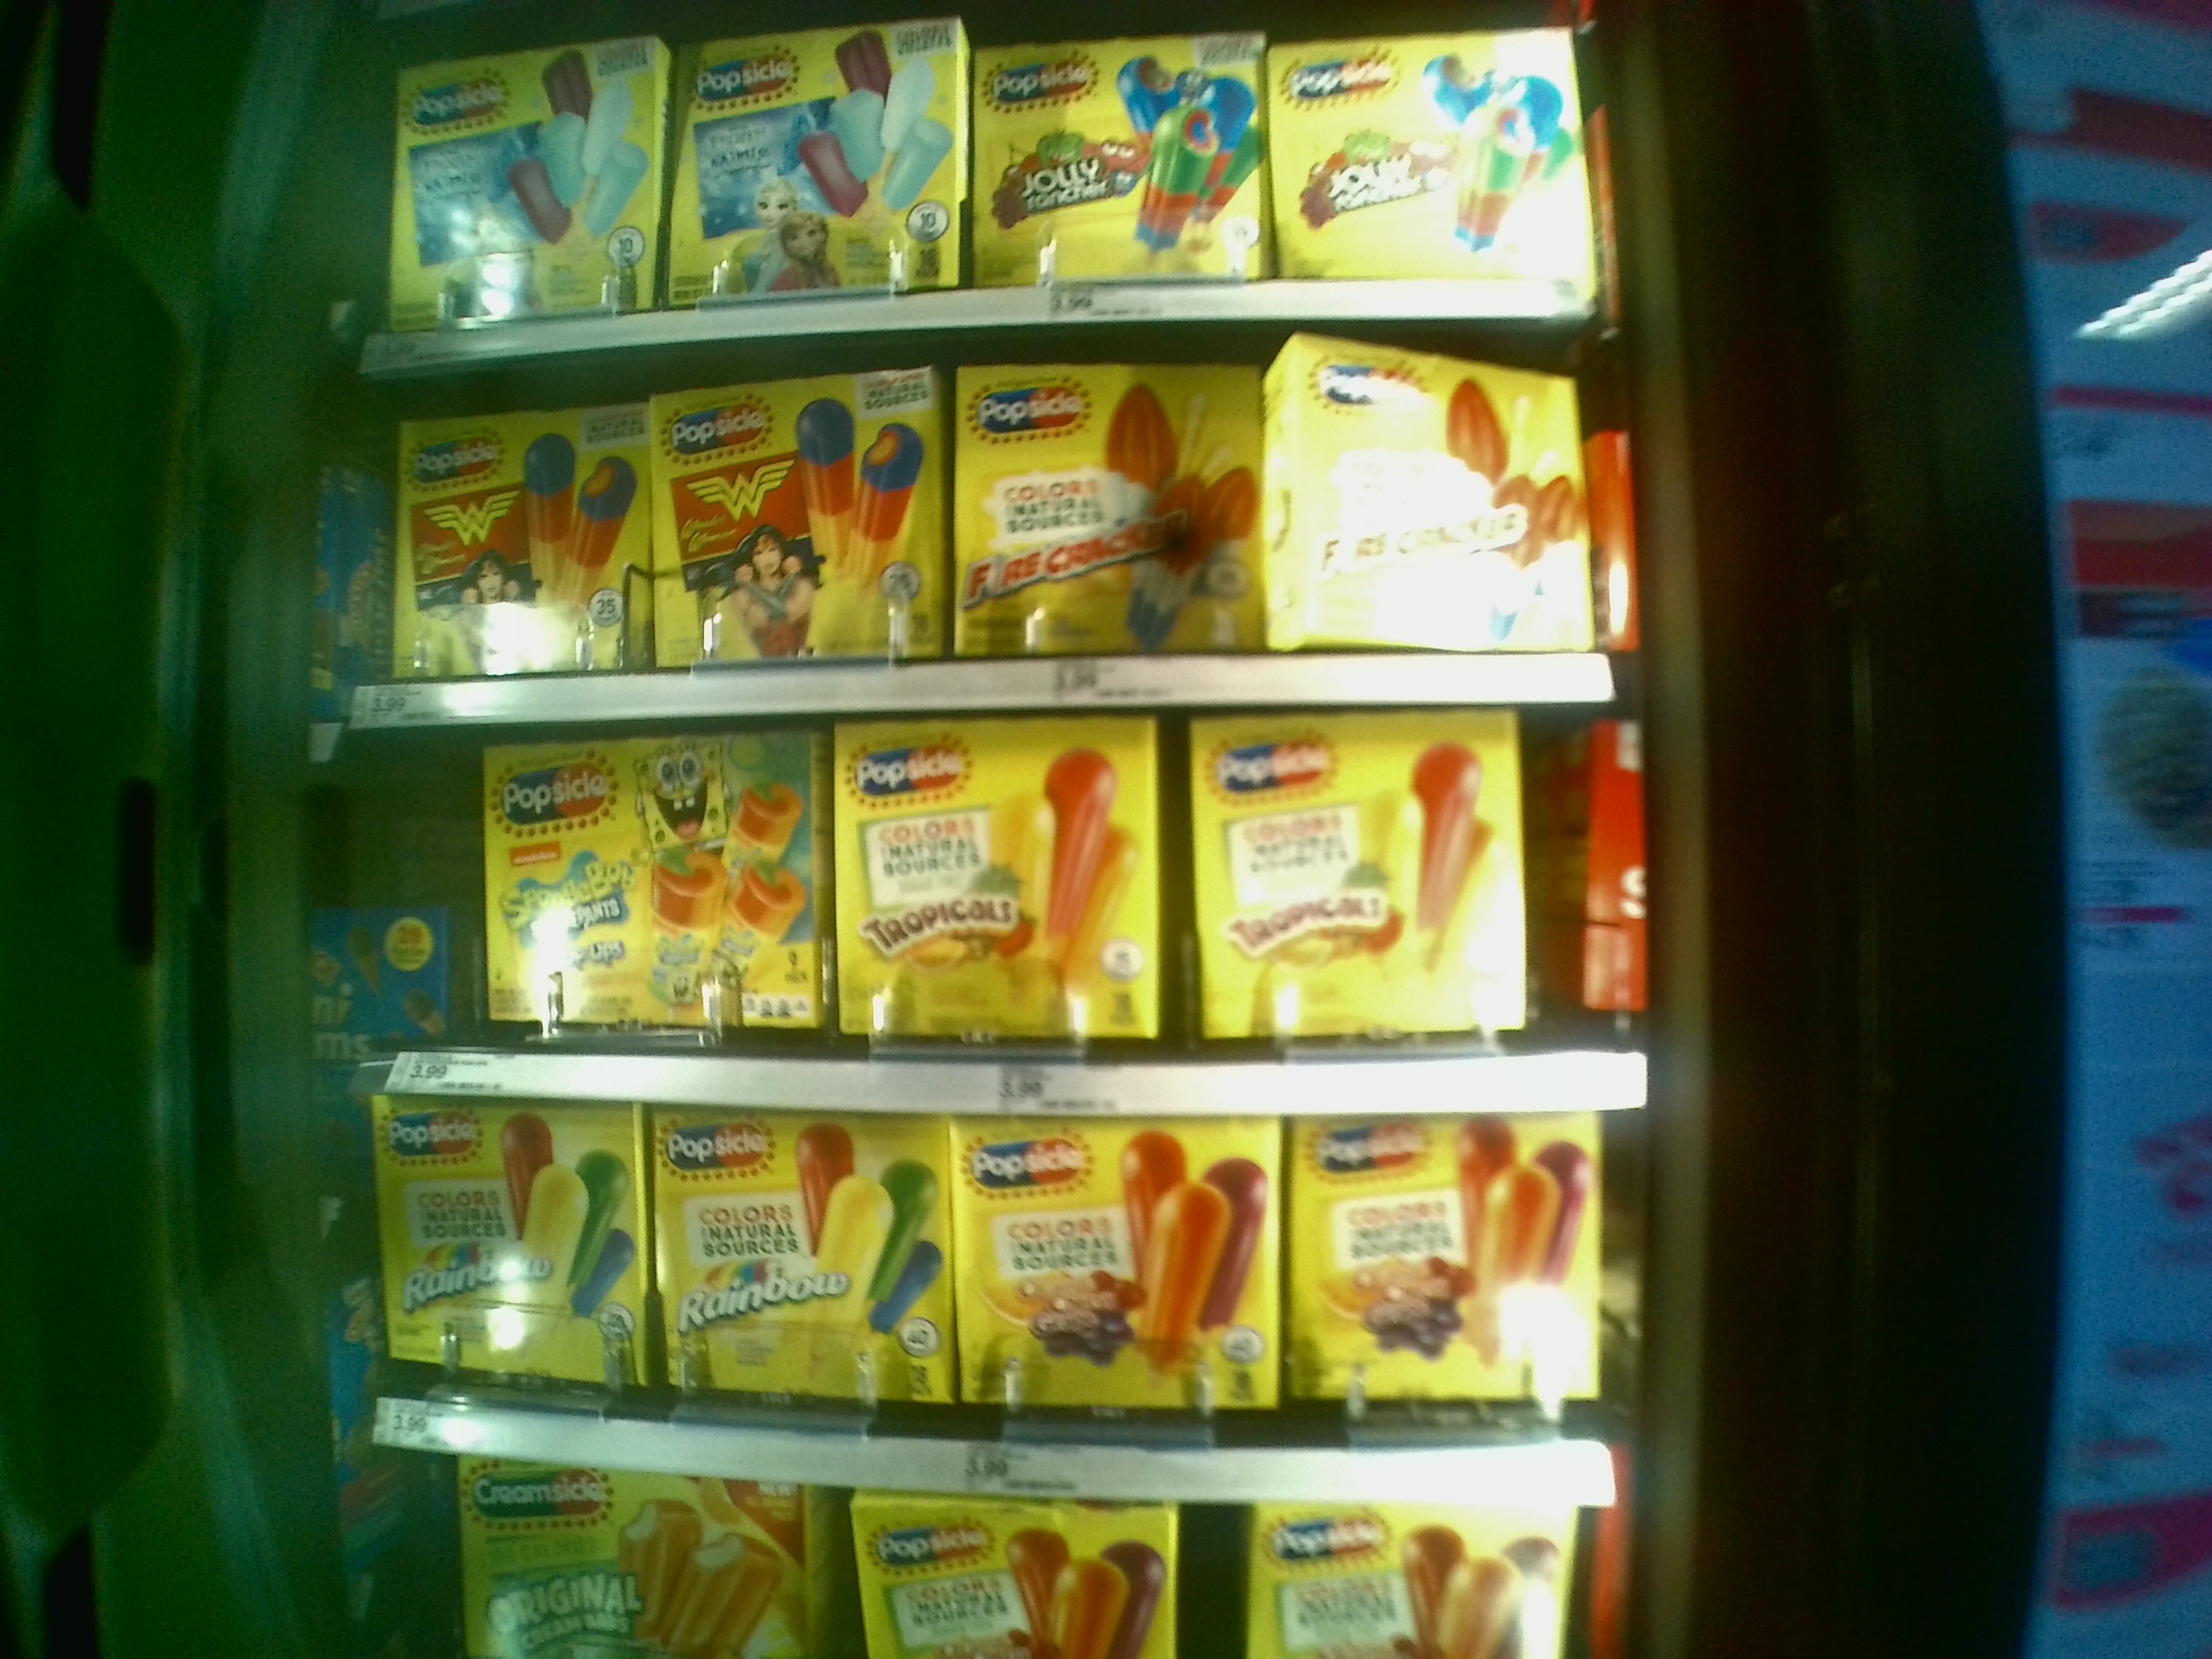shelf: (369, 1075, 1641, 1464), (359, 716, 1641, 1094), (352, 352, 1618, 706)
